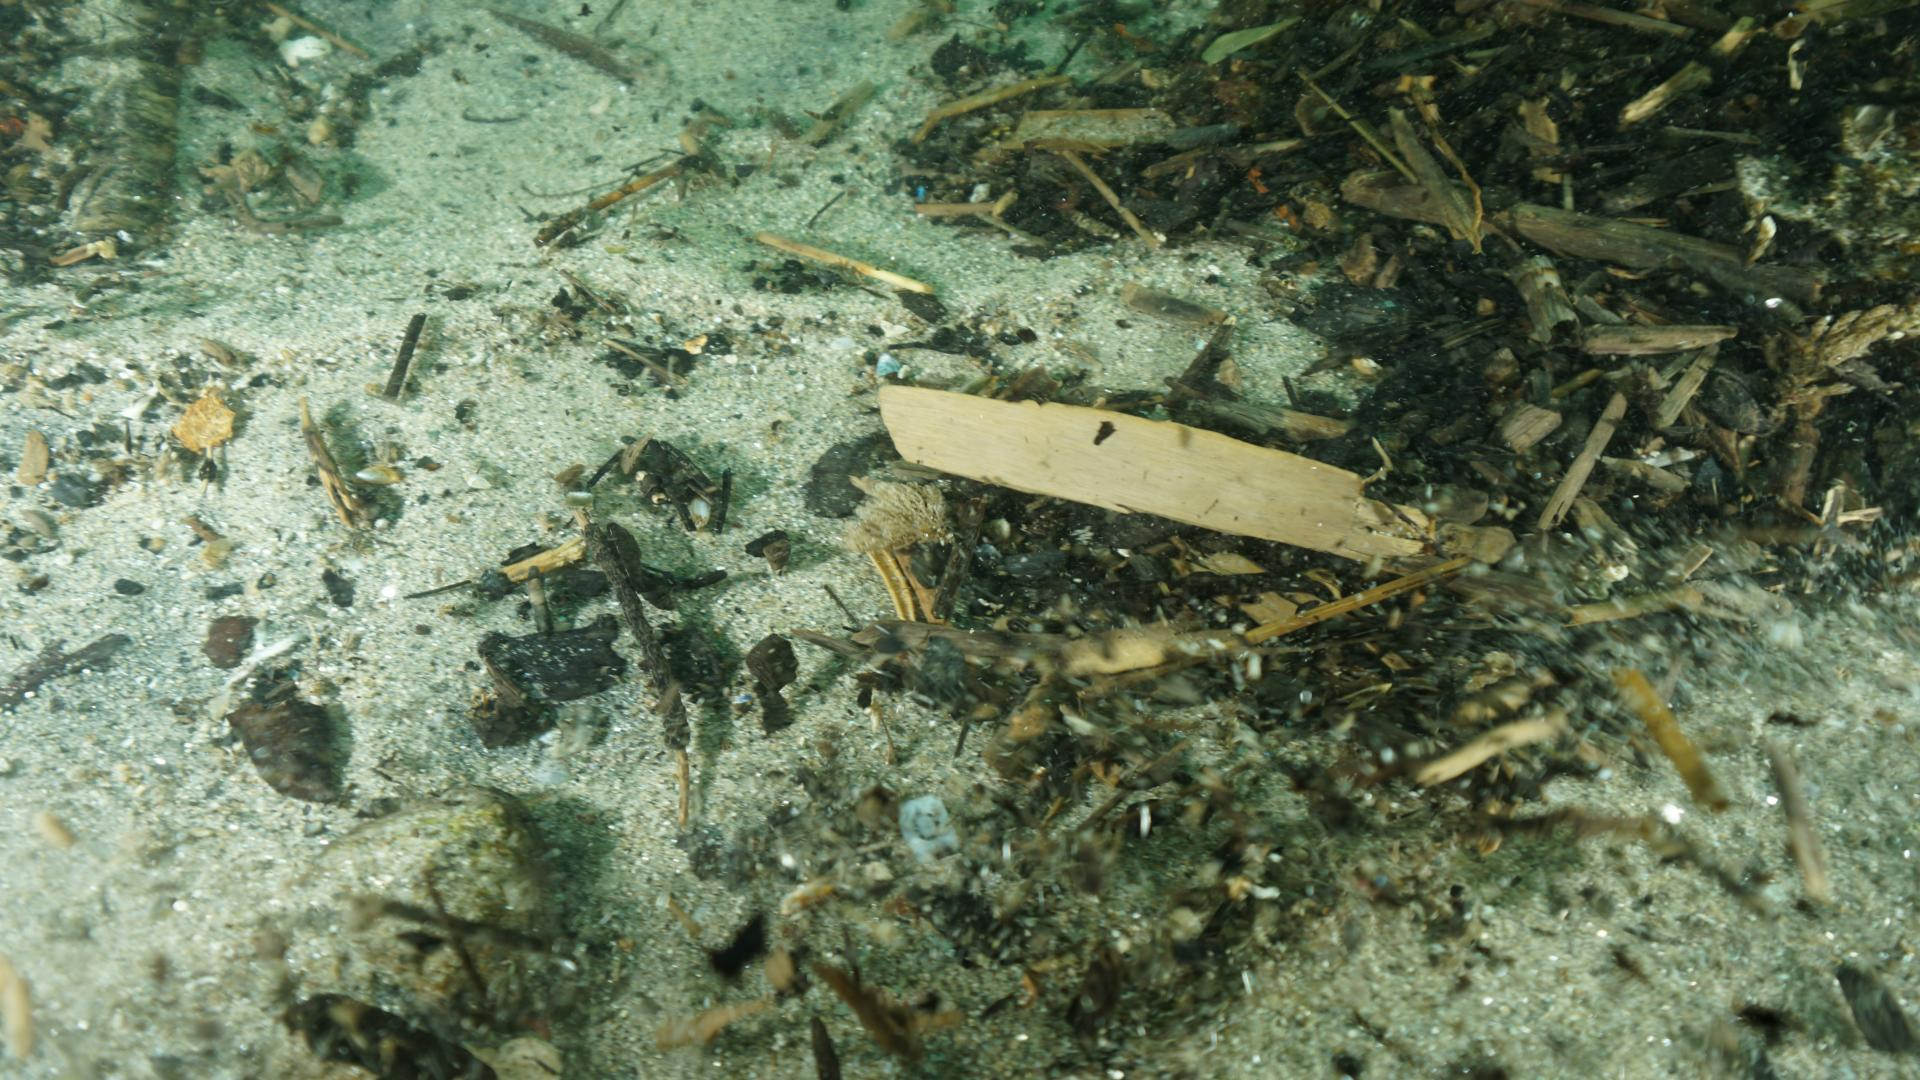wood: (876, 382, 1432, 564)
